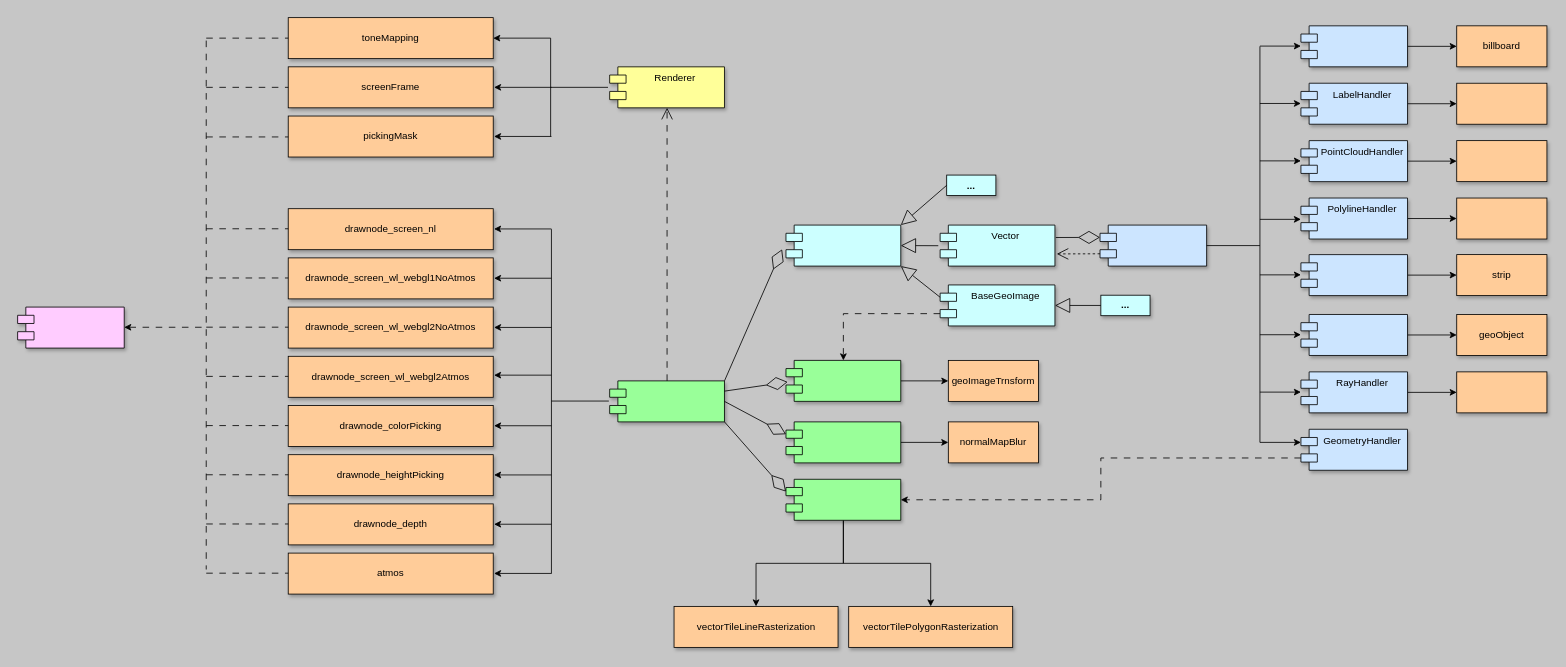
This 1566x667 diagram has some shape labels left out. The shapes that lost their labels are listed below. From the top down, each one's centre as x and y in pixels, then its label:
the point at 1354,47: BillboardHandler
the point at 1502,104: label
the point at 1502,162: pointCloud
the point at 1502,219: polyline
the point at 844,246: Layer
the point at 1154,246: EntityCollection
the point at 1354,276: StripHandler
the point at 71,328: ShaderProgram
the point at 1354,335: GeoObjectHandler
the point at 844,381: GeoImageCreator
the point at 1502,393: ray
the point at 667,402: Planet
the point at 844,443: NormalMapCreator
the point at 844,500: VectorTileCreator
